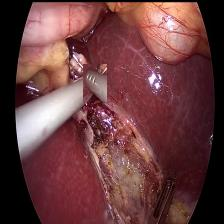Grasper: (148, 170, 176, 224)
Irrigator: (82, 63, 106, 102)
